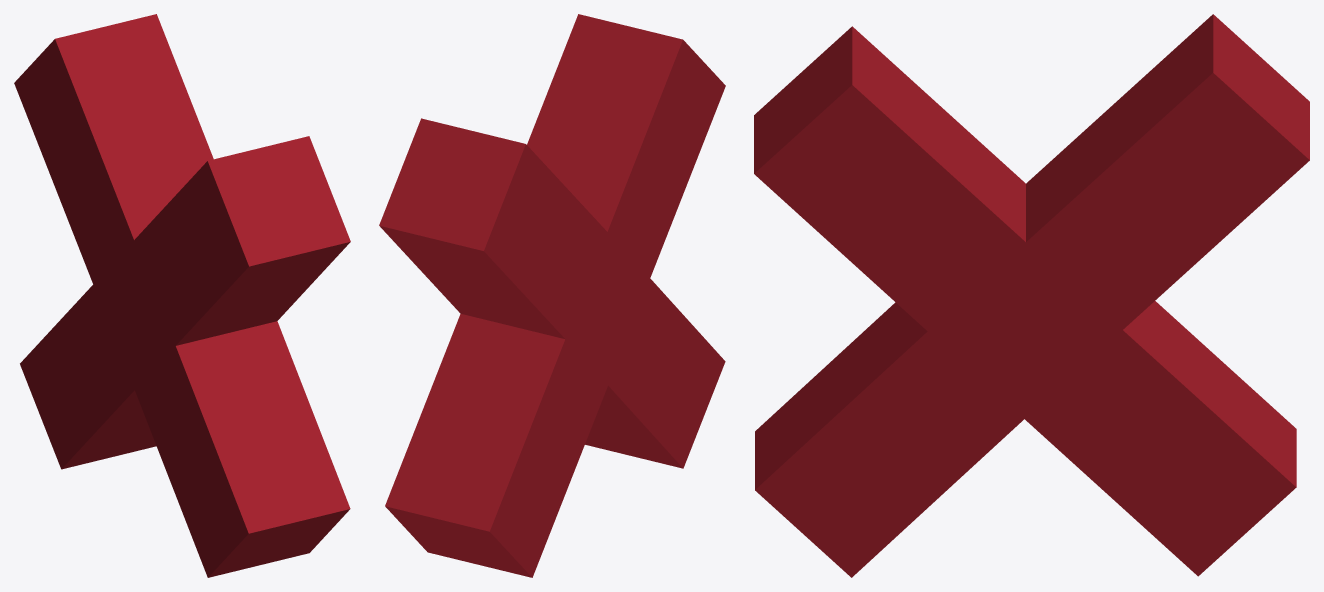
The model's file is gamjam2025_croix.glb.
3 views of the same model, side by side, from view 1: azimuth 30°, elevation 25°; view 2: azimuth 150°, elevation 25°; view 3: azimuth 270°, elevation 25° (orthographic). The views are drawn at different scales.
Visible parts, largest first — view 1: croix; view 2: croix; view 3: croix.
Part boxes in pixels (bbox=[...]): croix: bbox=[14, 14, 350, 577]; croix: bbox=[379, 14, 725, 577]; croix: bbox=[754, 14, 1309, 577].
Size of the model in its own units: 14.54 by 58.34 by 58.18.
